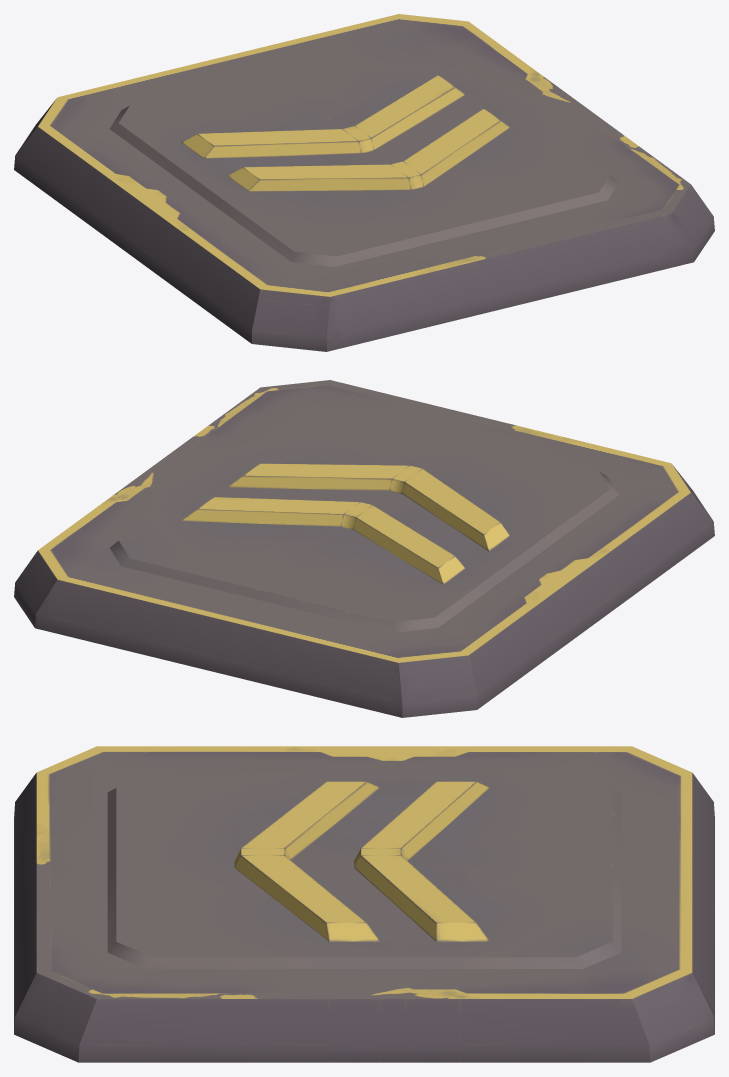
The model's file is Booster_Old.fbx.
3 views of the same model, one above another, from view 1: azimuth 30°, elevation 25°; view 2: azimuth 150°, elevation 25°; view 3: azimuth 270°, elevation 25° (orthographic). The views are drawn at different scales.
Visible parts, largest first — view 1: pCube1; view 2: pCube1; view 3: pCube1.
Part boxes in pixels (x1,y1,x2,y2): pCube1: (14, 14, 714, 351); pCube1: (14, 380, 714, 717); pCube1: (14, 746, 714, 1062).
Bounding box in the file's own units: 20.82 × 2.66 × 22.7.
1 material, 1 textured.
